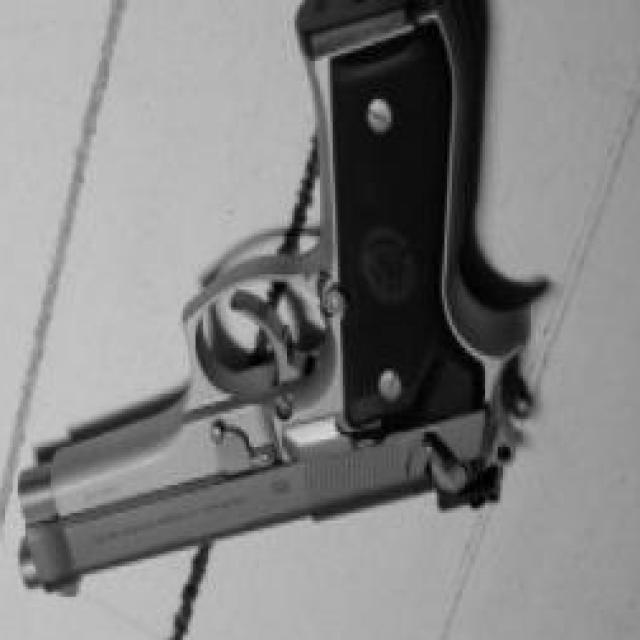pistol: (17, 0, 543, 600)
